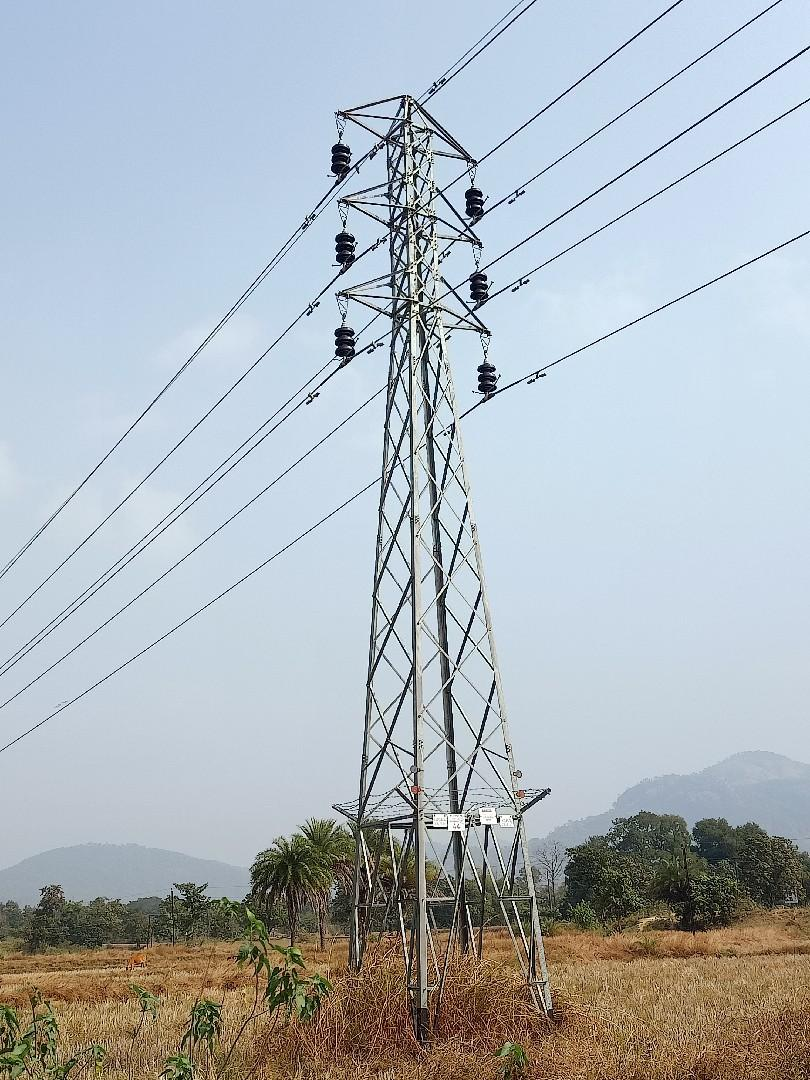GSM Antenna: (319, 86, 560, 952)
